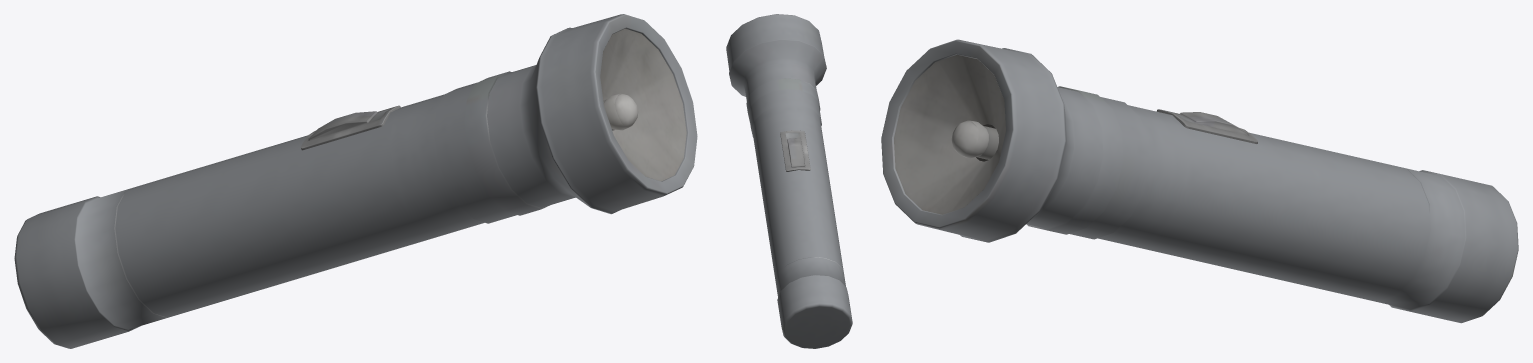
The model's file is ref_flashlight2.glb.
3 renders of one model, left to right at view 1: azimuth 30°, elevation 25°; view 2: azimuth 150°, elevation 25°; view 3: azimuth 270°, elevation 25°, orthographic. The views are drawn at different scales.
Parts seen in each view (by area): view 1: ref_flashlight2_part1, ref_flashlight2_part0; view 2: ref_flashlight2_part1; view 3: ref_flashlight2_part1, ref_flashlight2_part0.
Boxes of the visible parts, box(x1,y1,x2,y2) form: ref_flashlight2_part1: box(14, 14, 697, 348); ref_flashlight2_part0: box(600, 29, 686, 180); ref_flashlight2_part1: box(726, 14, 852, 348); ref_flashlight2_part1: box(881, 39, 1518, 323); ref_flashlight2_part0: box(894, 55, 1005, 214).
Bounding box in the file's own units: 0.8477 × 0.7344 × 1.
2 materials, 2 textured.
